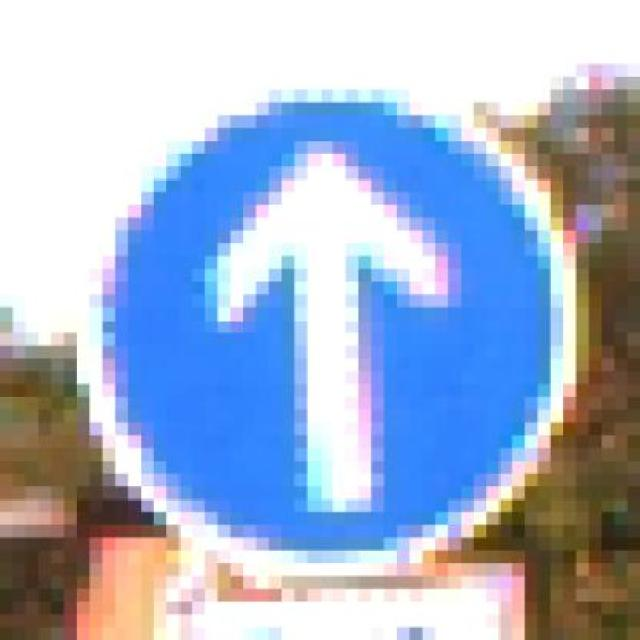Straight Ahead Only: (64, 65, 602, 563)
